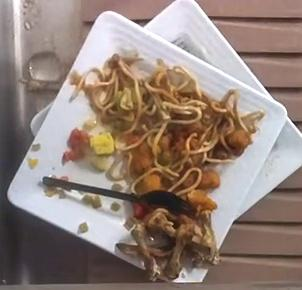asian_noodles: (63, 53, 264, 212)
